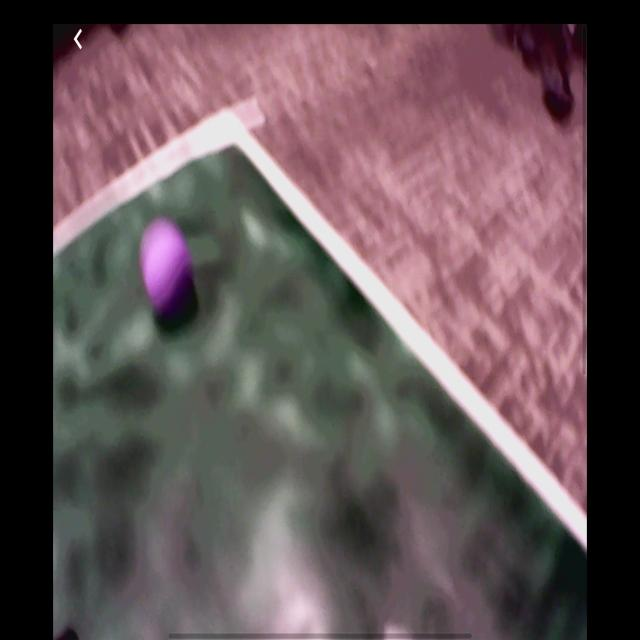ball: (140, 221, 194, 311)
